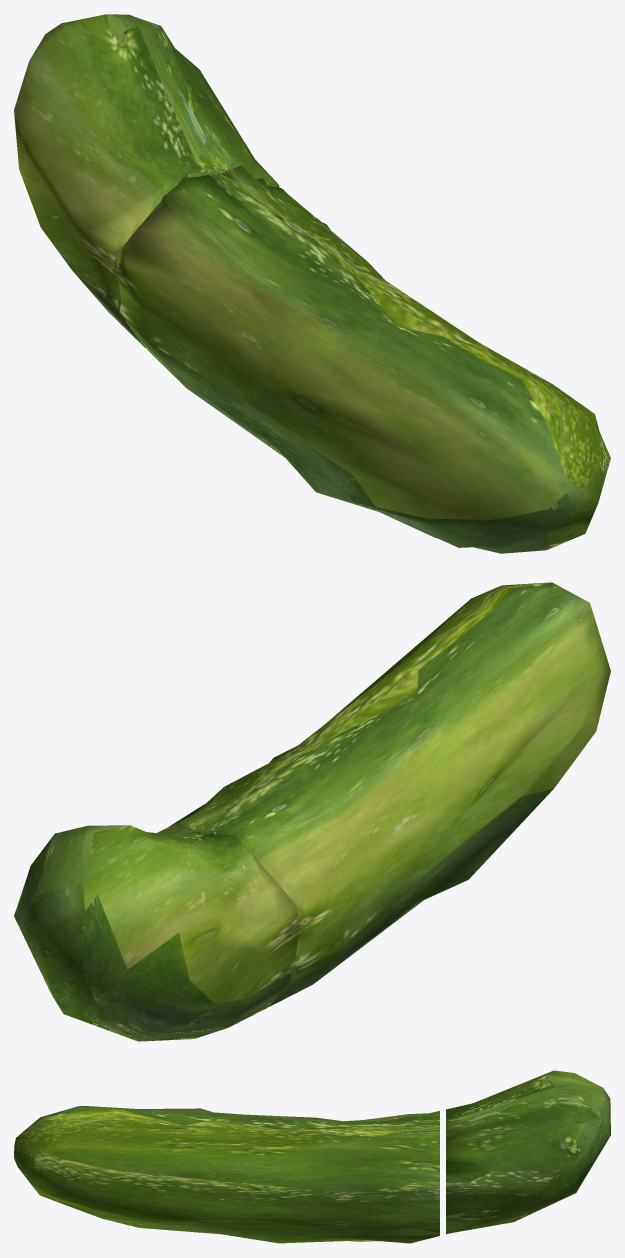
The model's file is cucumber_1cut_final1.obj.
3 renders of one model, top to bottom at view 1: azimuth 30°, elevation 25°; view 2: azimuth 150°, elevation 25°; view 3: azimuth 270°, elevation 25°, orthographic. The views are drawn at different scales.
Visible parts, largest first — view 1: cucumber.003, cucumber.002; view 2: cucumber.003, cucumber.002; view 3: cucumber.003, cucumber.002.
Boxes of the visible parts, x1,y1,x2,y2 form: cucumber.003: (114,165,610,553); cucumber.002: (14,14,279,347); cucumber.003: (169,582,610,1006); cucumber.002: (14,822,301,1041); cucumber.003: (14,1106,439,1243); cucumber.002: (446,1070,610,1234).
Size of the model in its own units: 0.0705 by 0.0968 by 0.3187.
